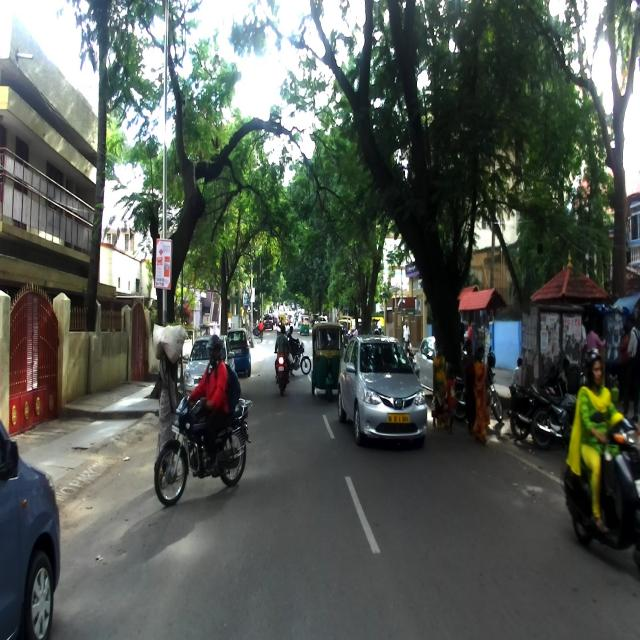Car_Toyota: (337, 334, 427, 449)
motorcycle_Hero: (154, 383, 252, 507)
